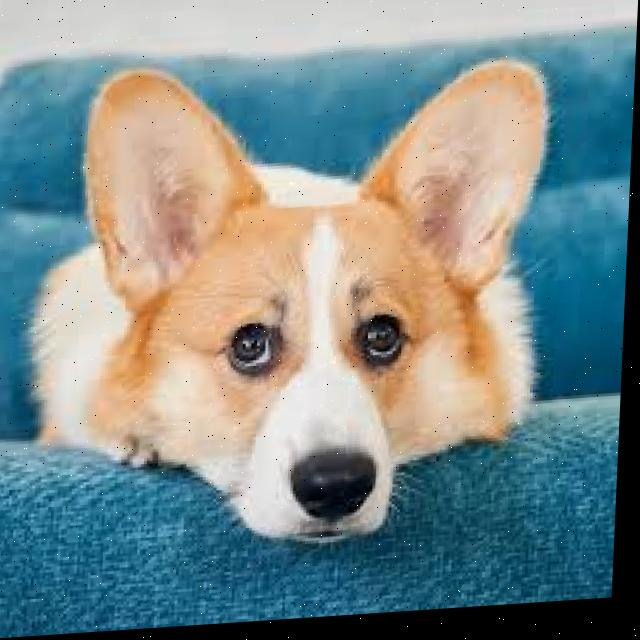CORGI: (9, 34, 572, 567)
